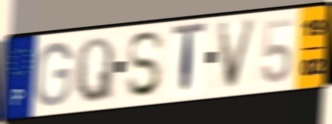5: (260, 15, 295, 85)
G: (33, 40, 75, 109)
Q: (74, 36, 116, 106)
S: (124, 28, 167, 100)
T: (171, 20, 208, 98)
V: (216, 16, 260, 93)
